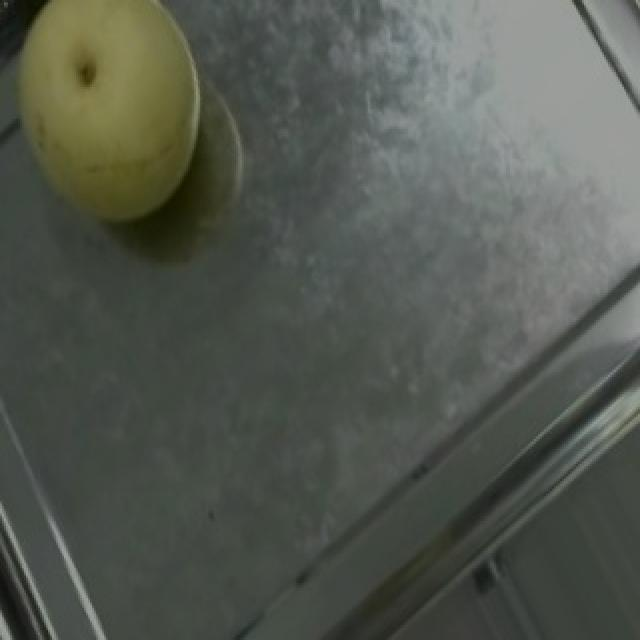Fruit: (0, 0, 232, 251)
